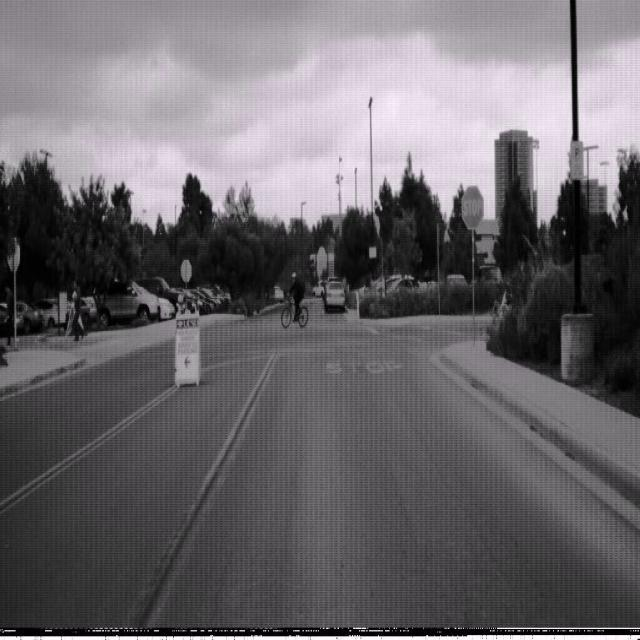stop: (460, 184, 484, 229)
